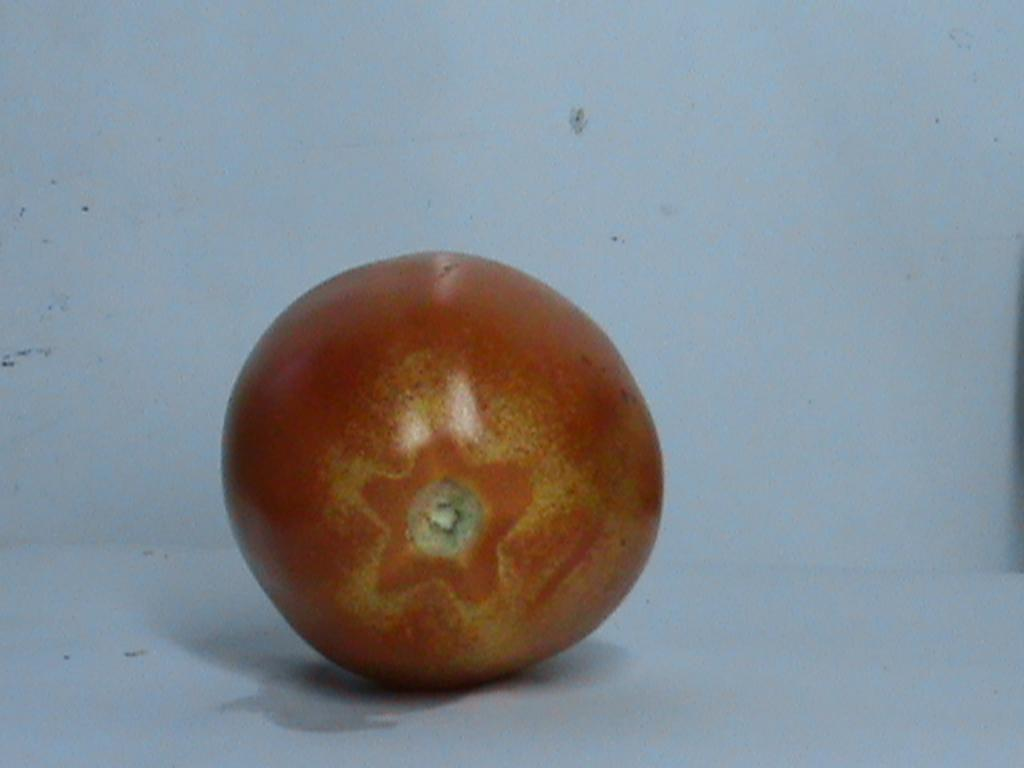bruise_discoloration: (314, 345, 657, 672)
tomato: (224, 253, 662, 686)
